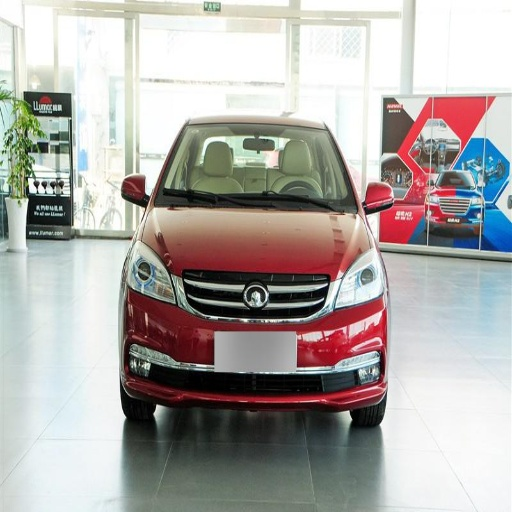front_bumper: (123, 270, 386, 409)
front_right_light: (125, 242, 176, 303)
hood: (143, 207, 367, 279)
